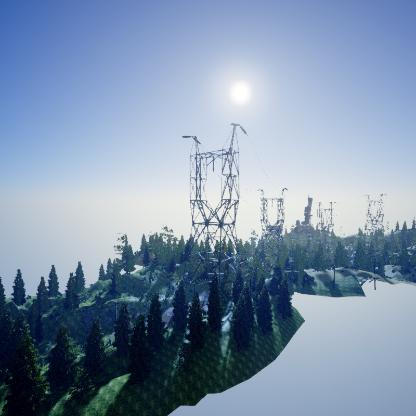tower: (181, 121, 249, 281), (256, 185, 288, 262)
